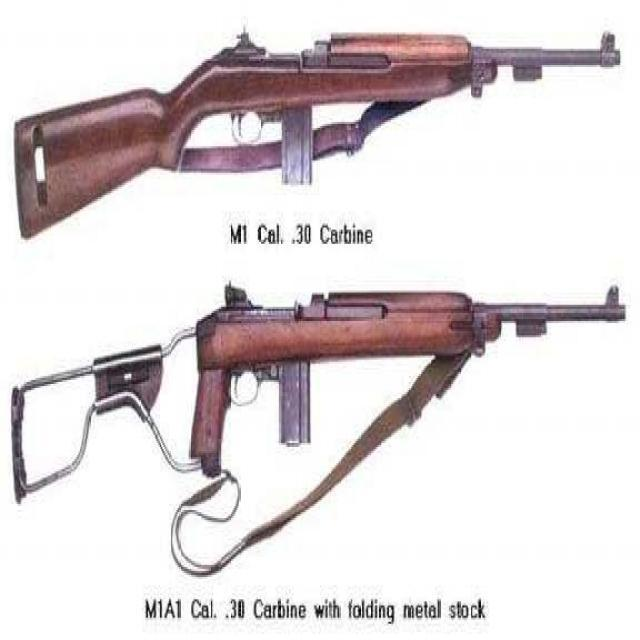weapon: (14, 284, 624, 576), (14, 24, 621, 241)
